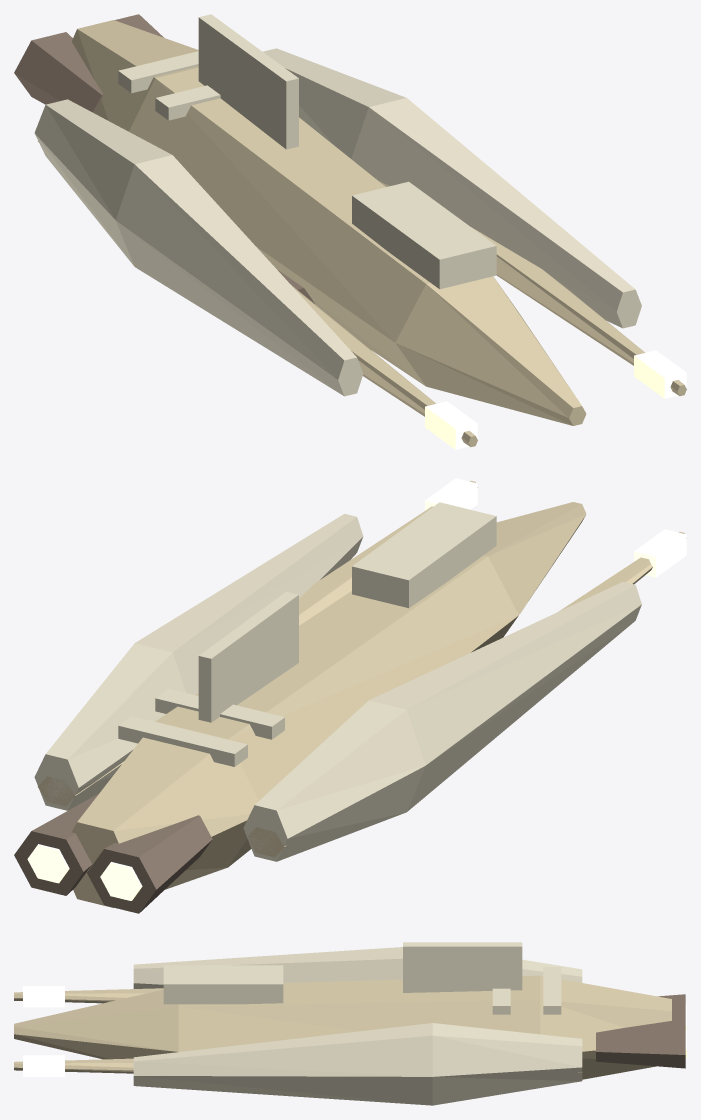
3 views of the same model, one above another, from view 1: azimuth 30°, elevation 25°; view 2: azimuth 150°, elevation 25°; view 3: azimuth 270°, elevation 25° (orthographic). The views are drawn at different scales.
Bounding box in the file's own units: 1.86 × 1.1 × 5.13.
